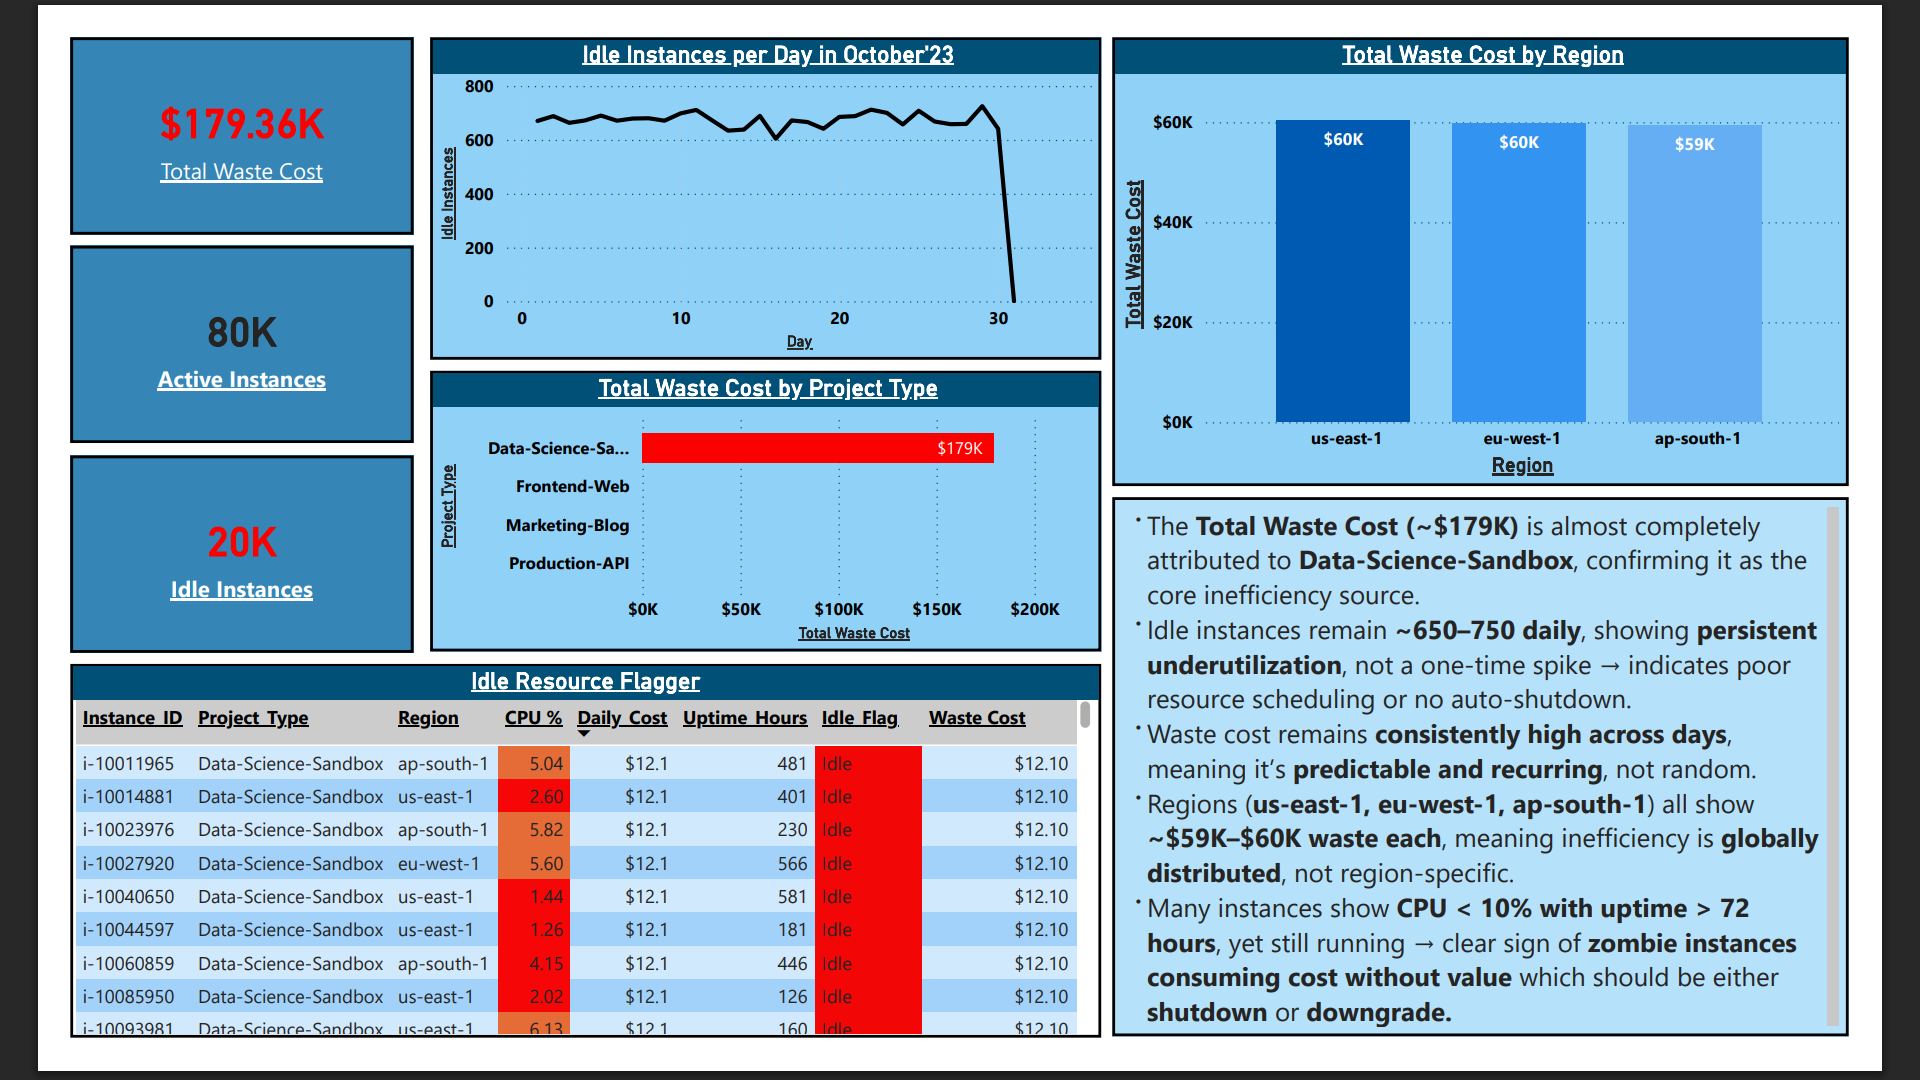

This screenshot's page, from the dashboard's own definition file:
{"tool":"powerbi","page":{"name":"Waste Analysis","canvas":[1280,720],"ordinal":2},"visuals":[{"type":"card","fields":{"Values":["Cloud_FinOps_Logs.Active Instances"]},"box":[0,150,246.5,141.9],"z":0},{"type":"card","fields":{"Values":["Cloud_FinOps_Logs.Idle Instances"]},"box":[0,301.2,246.5,141.9],"z":1000},{"type":"card","fields":{"Values":["Cloud_FinOps_Logs.Total Waste Cost"]},"box":[0,0,246.5,141.9],"z":2000},{"type":"clusteredBarChart","title":"Total Waste Cost by Project Type","fields":{"Category":["Cloud_FinOps_Logs.Project_Name"],"Y":["Cloud_FinOps_Logs.Total Waste Cost"]},"box":[258.9,239.7,482.8,202.4],"z":3000},{"type":"tableEx","title":"Idle Resource Flagger","fields":{"Values":["Cloud_FinOps_Logs.Instance_ID","Cloud_FinOps_Logs.Project_Name","Cloud_FinOps_Logs.Region","Cloud_FinOps_Logs.CPU_Utilization_Pct","Cloud_FinOps_Logs.Daily_Cost_USD","Cloud_FinOps_Logs.Uptime_Hours","Cloud_FinOps_Logs.Idle_Flag","Cloud_FinOps_Logs.Total Waste Cost"]},"box":[0,451.1,741.7,269.1],"z":4000},{"type":"columnChart","fields":{"Category":["Cloud_FinOps_Logs.Region"],"Y":["Cloud_FinOps_Logs.Total Waste Cost"]},"box":[749.6,0,530.3,323.4],"z":5000},{"type":"lineChart","title":"Idle Instances per Day in October''23","fields":{"Category":["Cloud_FinOps_Logs.Log_Date.Variation.Date Hierarchy.Day"],"Y":["Cloud_FinOps_Logs.Idle Instances"]},"box":[258.9,0,482.8,231.8],"z":6000},{"type":"textbox","box":[749.6,331.3,530.3,387.8],"z":7000}]}

Visuals, with their boxes in screenshot pixels (x1, y1, x2, y2), scaled from the page's 1280x720 canvas onto the 1920x1080 screenshot:
card - Cloud_FinOps_Logs.Active Instances: (x1=0, y1=225, x2=370, y2=438)
card - Cloud_FinOps_Logs.Idle Instances: (x1=0, y1=452, x2=370, y2=665)
card - Cloud_FinOps_Logs.Total Waste Cost: (x1=0, y1=0, x2=370, y2=213)
"Total Waste Cost by Project Type" clusteredBarChart: (x1=388, y1=360, x2=1113, y2=663)
"Idle Resource Flagger" tableEx: (x1=0, y1=677, x2=1113, y2=1079)
columnChart - Cloud_FinOps_Logs.Region x Cloud_FinOps_Logs.Total Waste Cost: (x1=1124, y1=0, x2=1919, y2=485)
"Idle Instances per Day in October''23" lineChart: (x1=388, y1=0, x2=1113, y2=348)
textbox: (x1=1124, y1=497, x2=1919, y2=1079)
